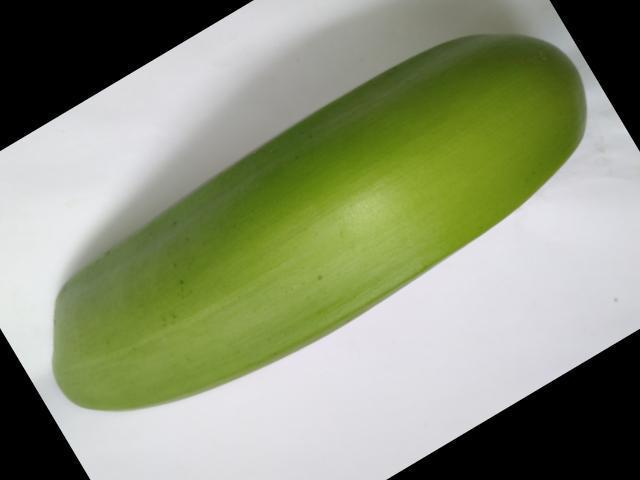freshunripe: (31, 19, 594, 427)
